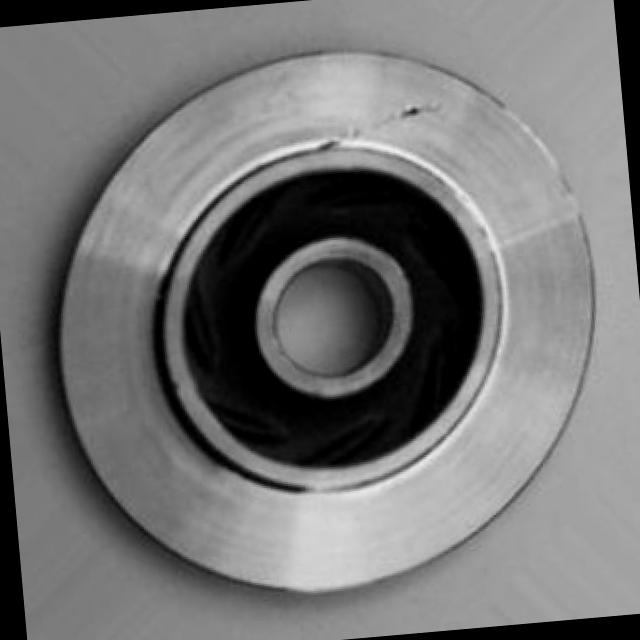Defect: (396, 93, 424, 136)
